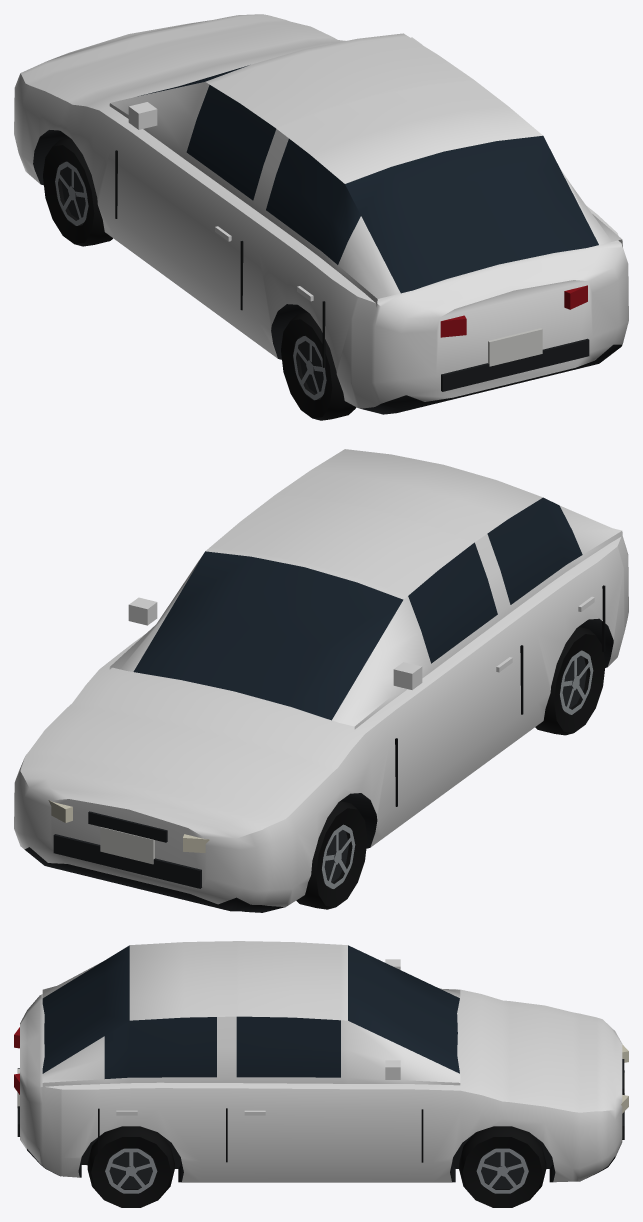
Rendered from hatch.glb.
3 views of the same model, one above another, from view 1: azimuth 30°, elevation 25°; view 2: azimuth 150°, elevation 25°; view 3: azimuth 270°, elevation 25° (orthographic). The views are drawn at different scales.
Visible parts, largest first — view 1: hatch; view 2: hatch; view 3: hatch.
Part boxes in pixels (x1=…): hatch: x1=14, y1=14, x2=628, y2=420; hatch: x1=14, y1=449, x2=628, y2=912; hatch: x1=14, y1=941, x2=628, y2=1207.
Bounding box in the file's own units: 1.82 × 1.47 × 4.37.
